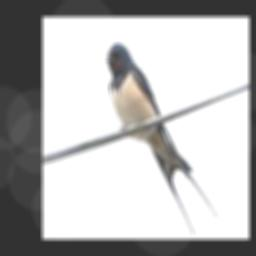Swallow: (105, 43, 217, 233)
